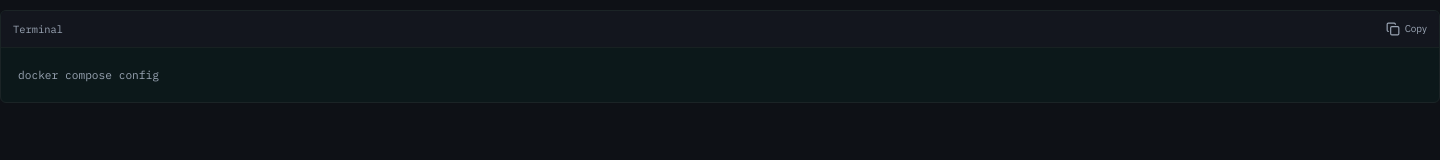
it: Engineering interactions › reports clipboard failure instead of displaying a false success
The image size is (1440, 160).
Click the button with aria-label "Copy command".
click(1406, 29)  # box [1386, 21, 1427, 37]
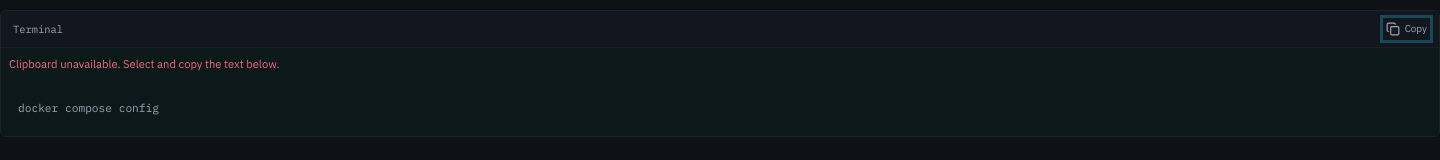
Check: the message shows "Clipboard unavailable", box [9, 57, 279, 71]
